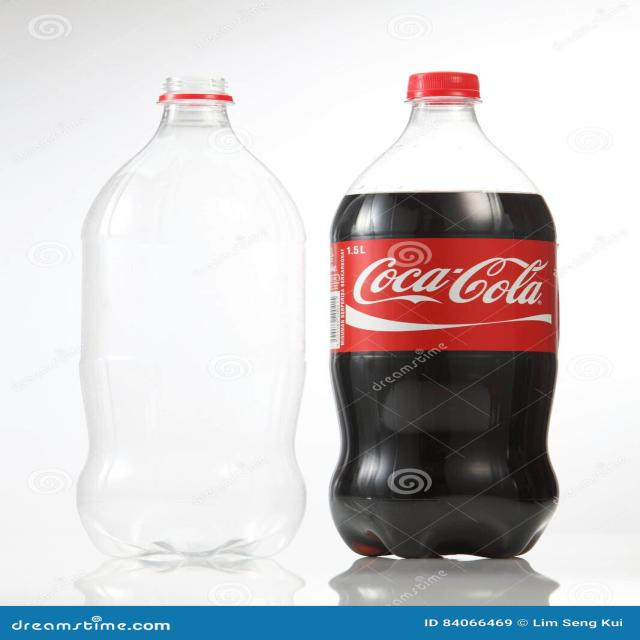bottom: (58, 484, 309, 574), (319, 499, 570, 565)
cap: (388, 66, 512, 116)
no_cap: (147, 64, 250, 145)
